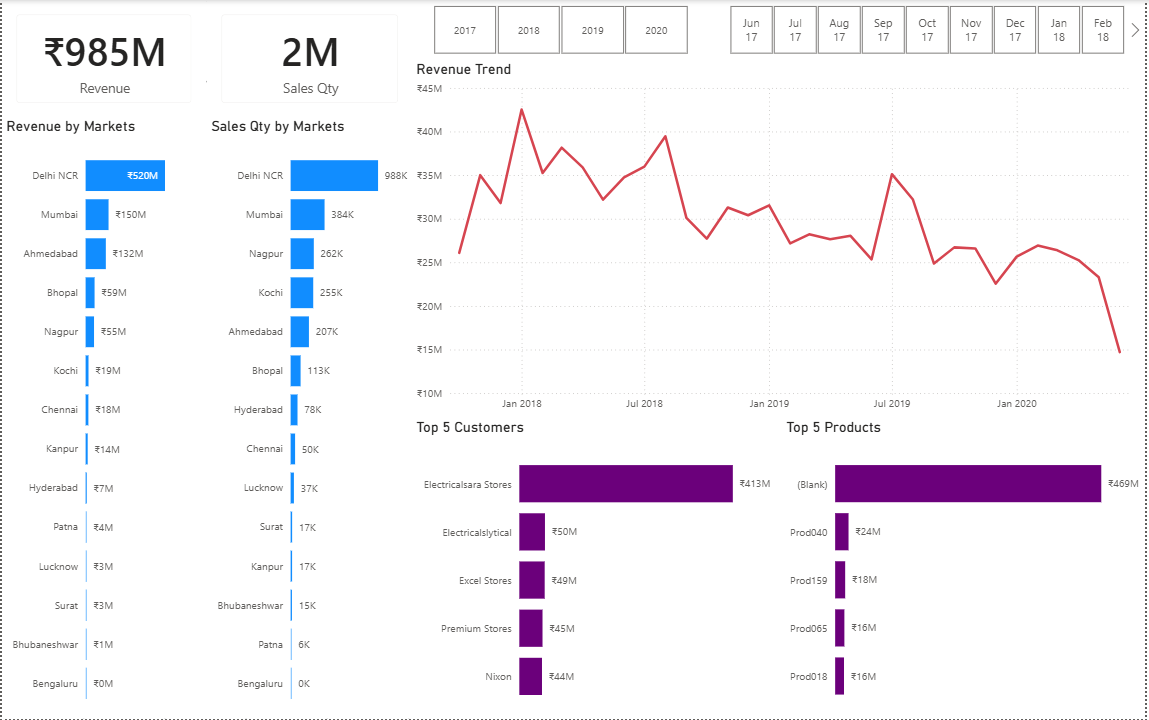

This screenshot's page, from the dashboard's own definition file:
{"tool":"powerbi","page":{"name":"Key Insights","canvas":[1350,850],"ordinal":0},"visuals":[{"type":"cardVisual","fields":{"Data":["BaseMeasures.Sales Qty"]},"box":[241.8,0,243.3,140],"z":0},{"type":"cardVisual","fields":{"Data":["BaseMeasures.Revenue"]},"box":[0,0,241.8,140],"z":1000},{"type":"barChart","title":"Revenue by Markets","fields":{"Y":["BaseMeasures.Revenue"],"Category":["sales markets.markets_name"]},"box":[0,139.5,242.3,710.8],"z":2000},{"type":"barChart","title":"Sales Qty by Markets","fields":{"Y":["BaseMeasures.Sales Qty"],"Category":["sales markets.markets_name"]},"box":[242.3,139.5,242.3,710.8],"z":3000},{"type":"slicer","fields":{"Values":["sales date.year"]},"box":[484.6,0,349.5,70.5],"z":4000},{"type":"slicer","fields":{"Values":["sales date.cy_date"]},"box":[834.1,0,515.5,70.5],"z":5000},{"type":"barChart","title":"Top 5 Customers","fields":{"Y":["BaseMeasures.Revenue"],"Category":["sales customers.custmer_name"]},"box":[484.4,494.8,437.2,355.9],"z":6000},{"type":"barChart","title":"Top 5 Products","fields":{"Y":["BaseMeasures.Revenue"],"Category":["sales products.product_code"]},"box":[922.3,494.9,427.4,355.4],"z":7000},{"type":"lineChart","title":"Revenue Trend","fields":{"Y":["BaseMeasures.Revenue"],"Category":["sales date.cy_date"]},"box":[484.4,70.9,865.5,423.9],"z":8000}]}

Visuals, with their boxes in screenshot pixels (x1, y1, x2, y2), scaled from the page's 1350x850 canvas onto the 1149x720 screenshot:
cardVisual - BaseMeasures.Sales Qty: {"x1": 206, "y1": 0, "x2": 413, "y2": 119}
cardVisual - BaseMeasures.Revenue: {"x1": 0, "y1": 0, "x2": 206, "y2": 119}
"Revenue by Markets" barChart: {"x1": 0, "y1": 118, "x2": 206, "y2": 719}
"Sales Qty by Markets" barChart: {"x1": 206, "y1": 118, "x2": 412, "y2": 719}
slicer - sales date.year: {"x1": 412, "y1": 0, "x2": 710, "y2": 60}
slicer - sales date.cy_date: {"x1": 710, "y1": 0, "x2": 1148, "y2": 60}
"Top 5 Customers" barChart: {"x1": 412, "y1": 419, "x2": 784, "y2": 719}
"Top 5 Products" barChart: {"x1": 785, "y1": 419, "x2": 1148, "y2": 719}
"Revenue Trend" lineChart: {"x1": 412, "y1": 60, "x2": 1148, "y2": 419}
